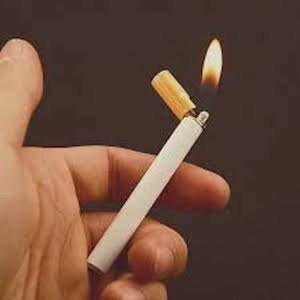heat: (190, 34, 228, 125)
